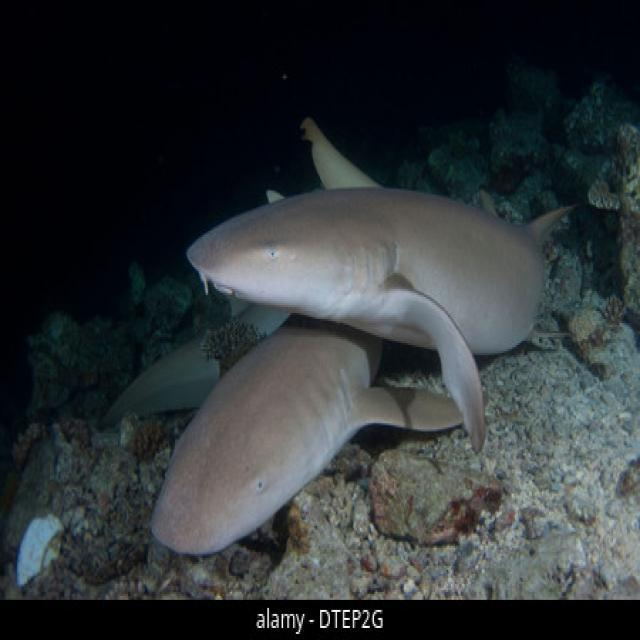Shark: (122, 105, 573, 550)
